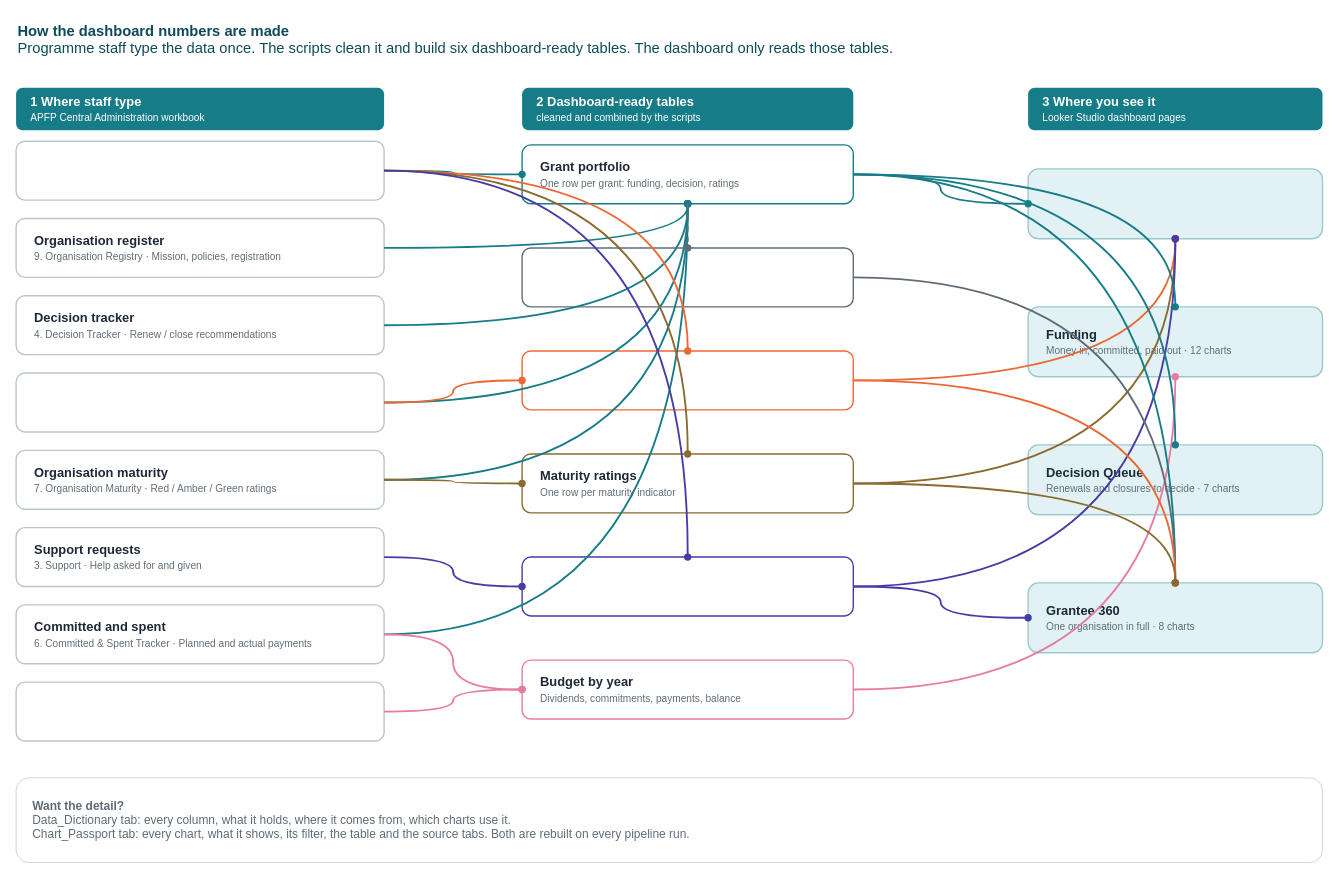
Image size: 1340x879. Some labels were removed from this diagram. The box of each missing label's shape, as (x1, y1, x2, y2) in pixels:
Annual information This year next to last year (built from the portfolio): (521, 247, 854, 307)
Dividends 5. Dividends · Dividend income per year: (15, 681, 384, 741)
Grant register 8. Grant Registry · Grants, amounts, dates, status: (15, 140, 384, 200)
Outcome progress 2. Outcome Progress · Targets and quarterly progress: (15, 372, 384, 432)
Outcome progress One row per outcome and quarter: (521, 350, 854, 410)
Portfolio Who we fund and how they are doing · 16 charts: (1027, 168, 1323, 239)
Support activity One row per support request: (521, 556, 854, 616)
